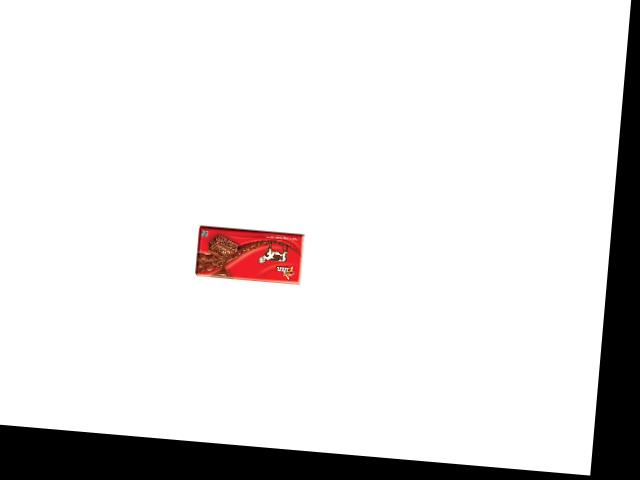chocolate: (192, 219, 308, 287)
